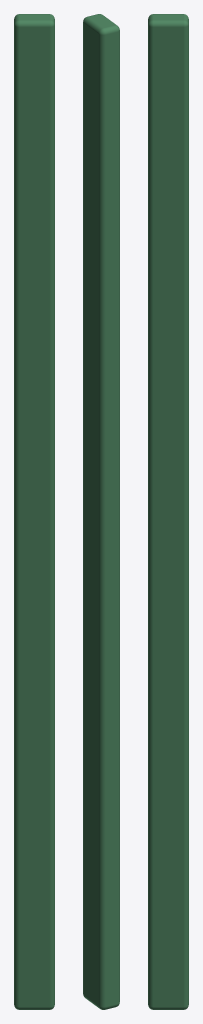
Rendered from window-frame-x-124.glb.
The picture shows the model from 3 angles, left to right: view 1: azimuth 90°, elevation 25°; view 2: azimuth 210°, elevation 25°; view 3: azimuth 270°, elevation 25°; orthographic projection.
Visible parts, largest first — view 1: green; view 2: green; view 3: green.
Part boxes in pixels (x1,y1,x2,y2): green: (14,14,54,1009); green: (83,14,119,1009); green: (148,14,188,1009).
Size of the model in its own units: 0.35 by 16 by 0.6.
